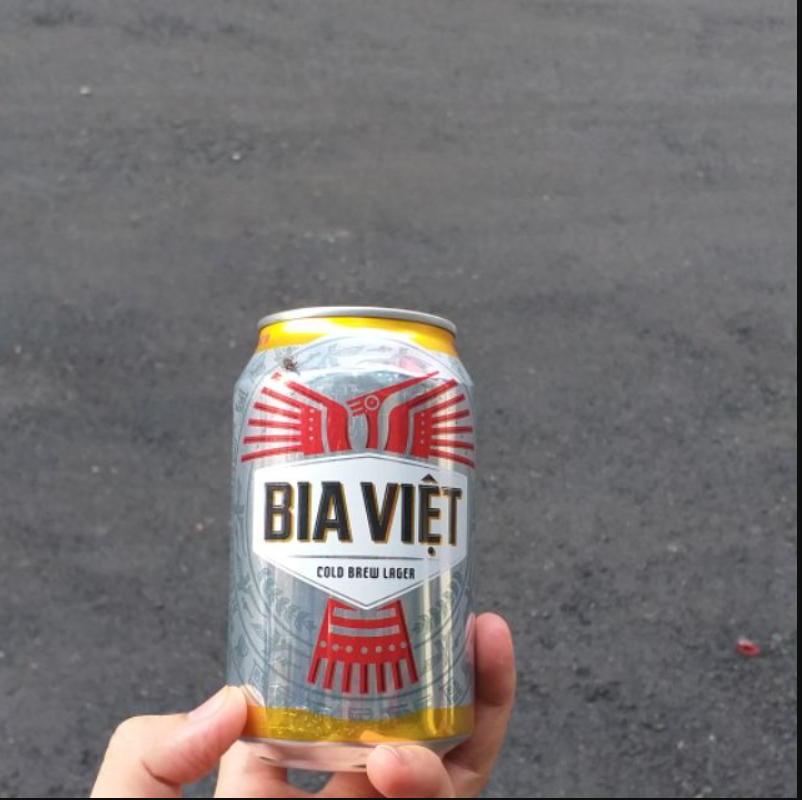biaviet: (260, 473, 463, 556)
